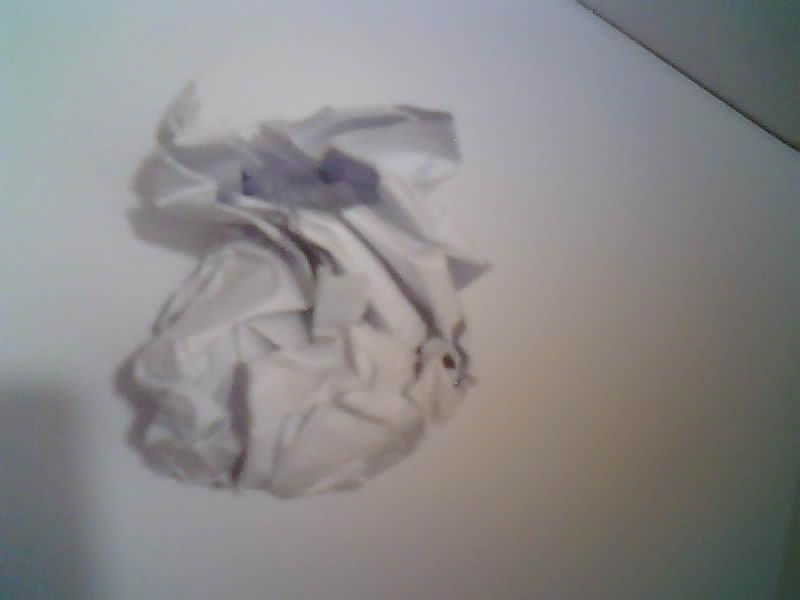biodegradable: (131, 86, 486, 497)
